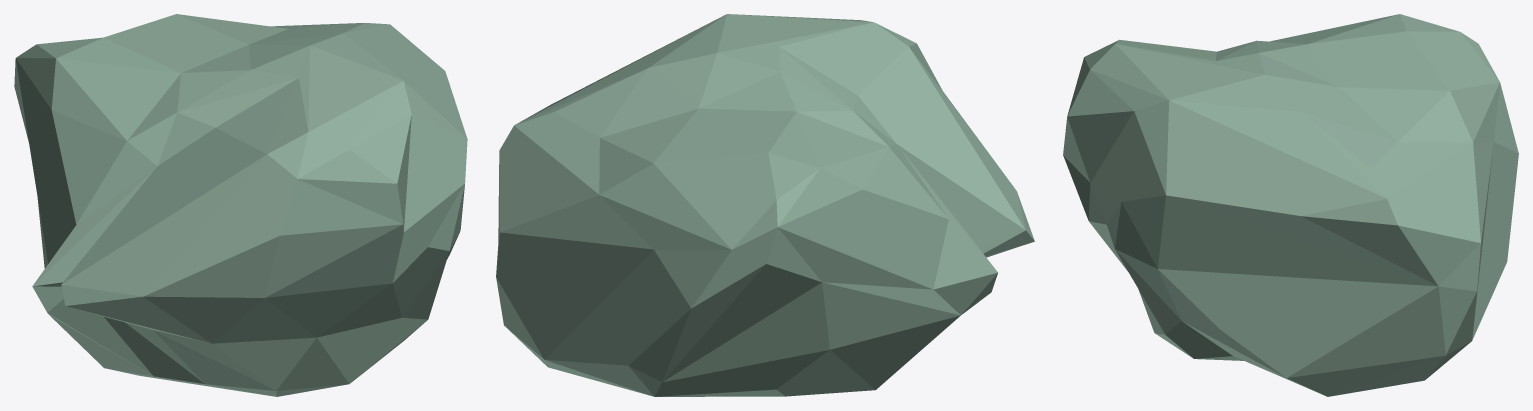
The picture shows the model from 3 angles, left to right: view 1: azimuth 30°, elevation 25°; view 2: azimuth 150°, elevation 25°; view 3: azimuth 270°, elevation 25°; orthographic projection. The views are drawn at different scales.
Visible parts, largest first — view 1: Sphere; view 2: Sphere; view 3: Sphere.
Boxes of the visible parts, x1,y1,x2,y2 form: Sphere: (14, 14, 467, 396); Sphere: (496, 14, 1034, 396); Sphere: (1063, 14, 1518, 396).
Size of the model in its own units: 225 by 147 by 216.
